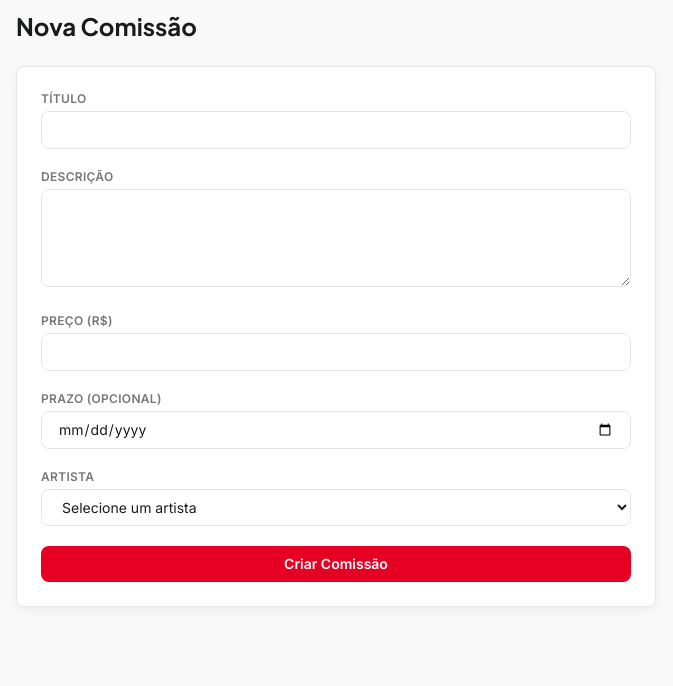
ClienteNovaComissao › shows error message on API failure
Type "Nova Ilustração" into the field labelled "Título".
click(336, 130); type("Nova Ilustração")  # box [41,111,631,149]
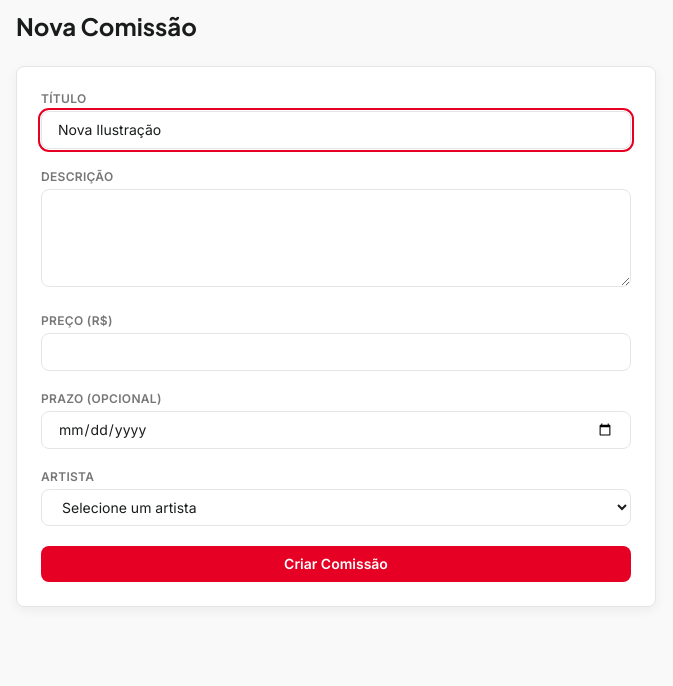
Type "Quero uma ilustração" into the text box labelled "Descrição".
click(336, 238); type("Quero uma ilustração")  # box [41,189,631,287]
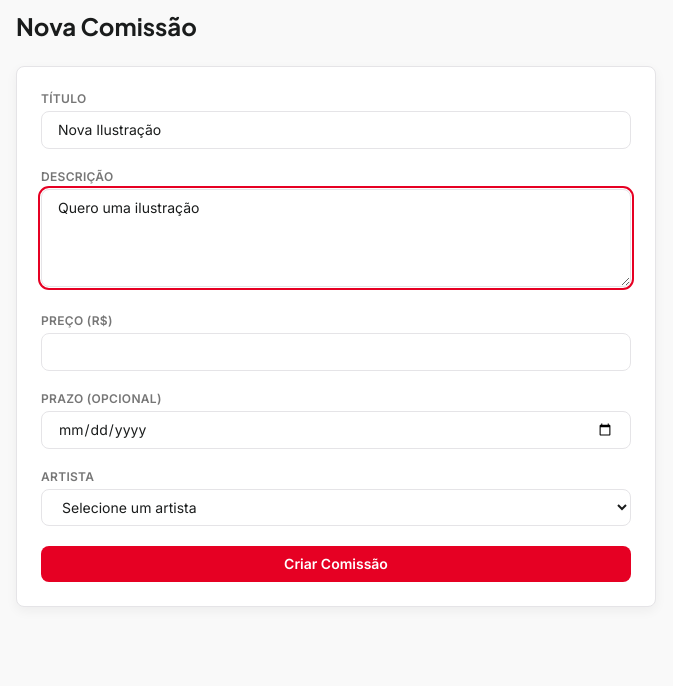
Type "150" into the number field labelled "Preço (R$)".
click(336, 352); type("150")  # box [41,333,631,371]
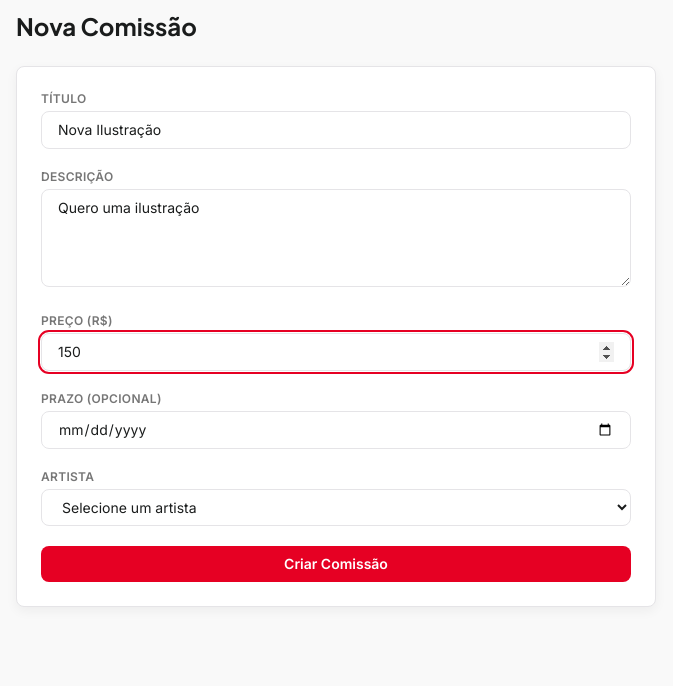
Select "Ana Artista — ana@test.com" in the dropdown labelled "Artista" at coordinates (336, 508), box [41,489,631,526]
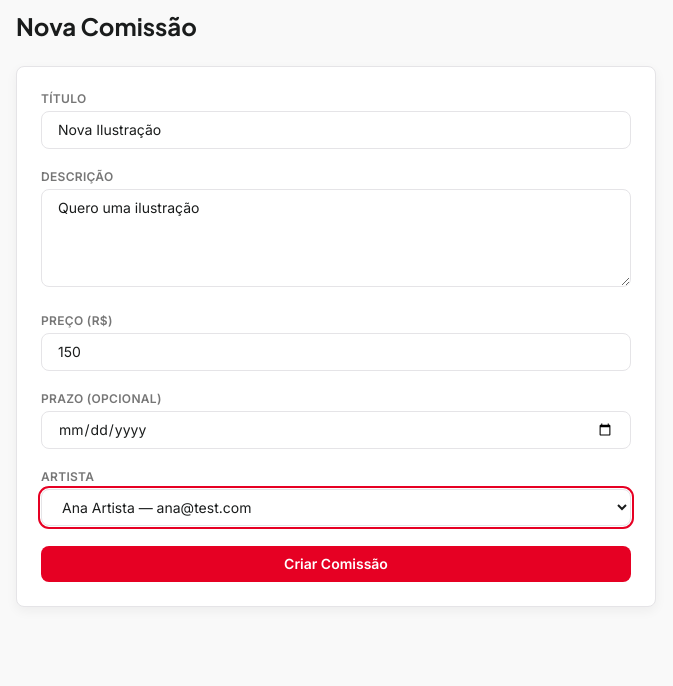
Click the button "Criar Comissão".
click(336, 564)  # box [41,546,631,582]
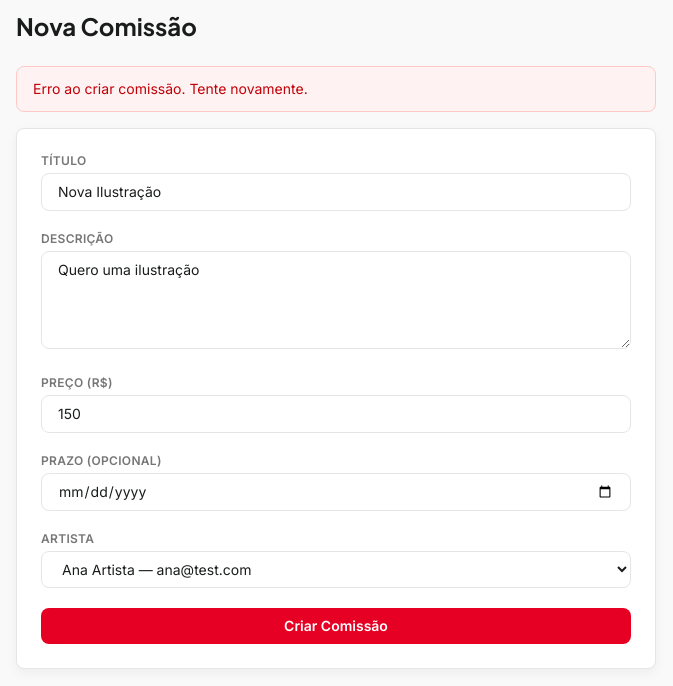
Check: the text "Erro ao criar comissão. Tente novamente." is shown, box [16,66,656,112]
